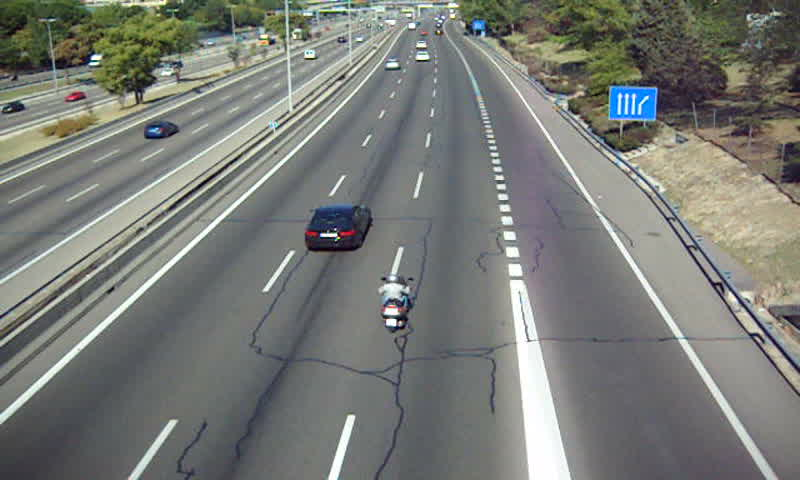car: (304, 204, 372, 249), (413, 51, 432, 63), (385, 56, 399, 70)
motorcycle: (376, 273, 414, 334)
